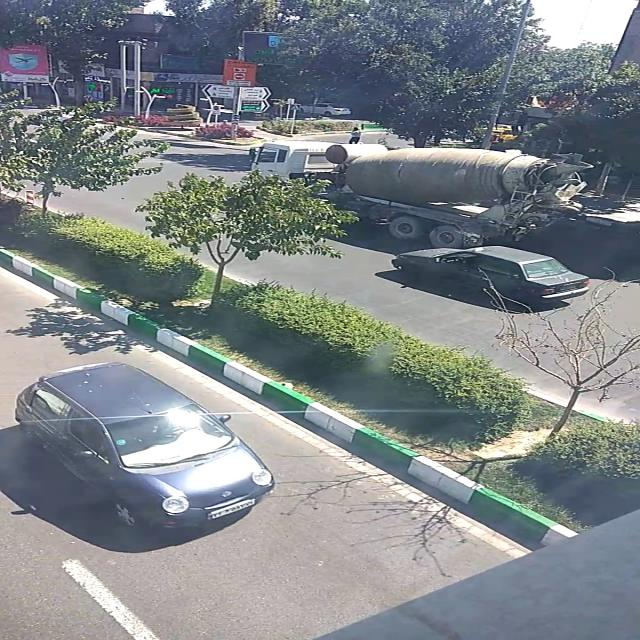car: (15, 363, 280, 531), (390, 246, 590, 301), (292, 104, 354, 116)
truck: (250, 141, 589, 245)
